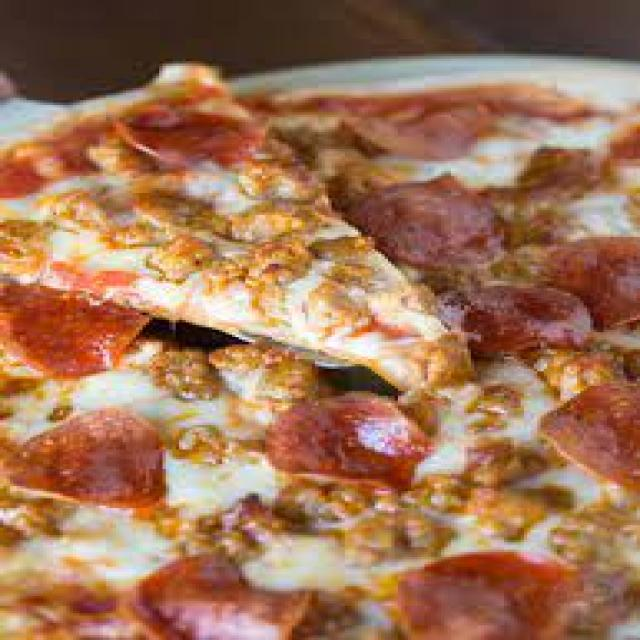Pizza: (21, 117, 640, 631)
